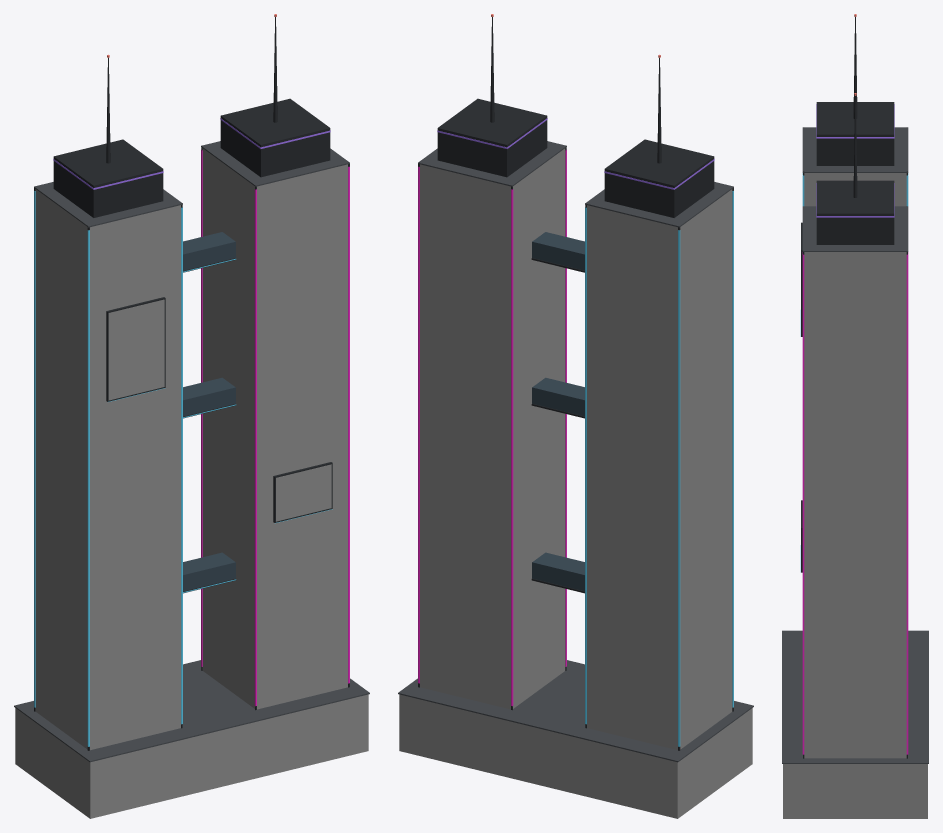
Rendered from Skyline_Twin_D.fbx.
The picture shows the model from 3 angles, left to right: view 1: azimuth 30°, elevation 25°; view 2: azimuth 150°, elevation 25°; view 3: azimuth 270°, elevation 25°; orthographic projection. The views are drawn at different scales.
Visible parts, largest first — view 1: Skyline_Twin_D_LOD0; view 2: Skyline_Twin_D_LOD0; view 3: Skyline_Twin_D_LOD0.
Boxes of the visible parts, bbox=[...] form: Skyline_Twin_D_LOD0: bbox=[14, 14, 369, 818]; Skyline_Twin_D_LOD0: bbox=[398, 14, 753, 818]; Skyline_Twin_D_LOD0: bbox=[782, 14, 928, 818].
Size of what is drawn, in the model's own units: 72.4 by 178 by 34.
